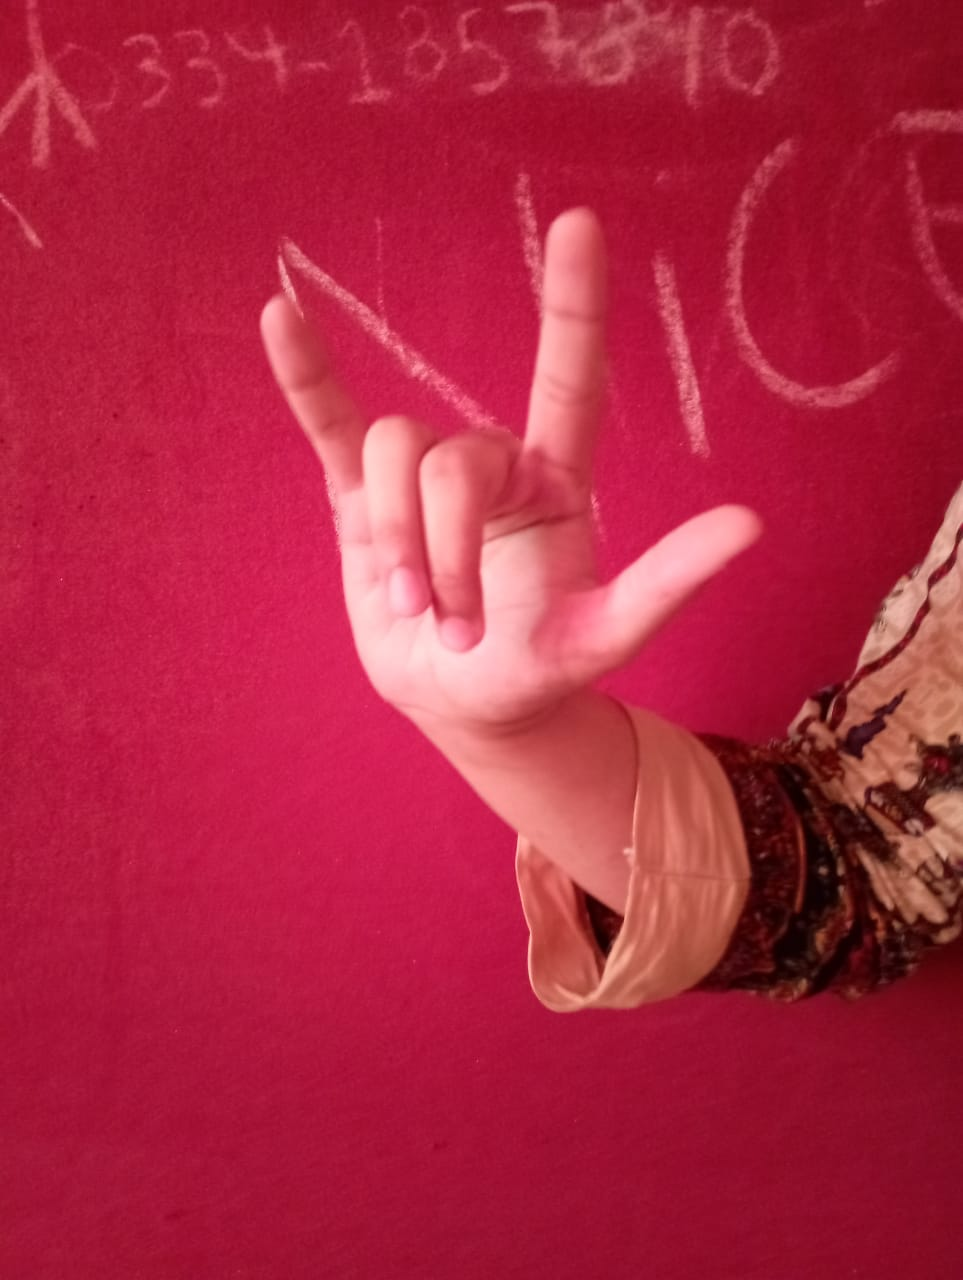Loved It: (246, 194, 770, 733)
